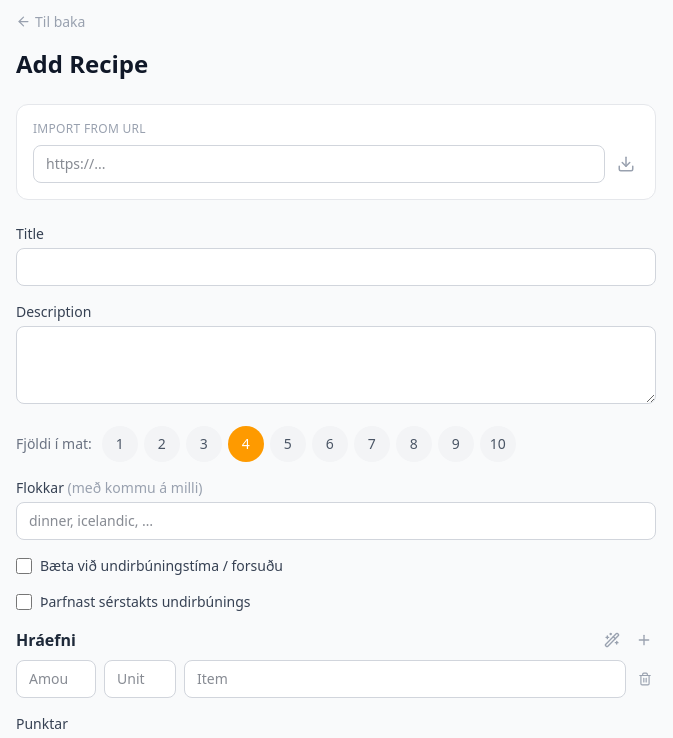
AddRecipeForm › imports from URL and pre-fills title
The image size is (673, 738).
Type "https://example.com/recipe" into the field with placeholder "https://..." at {"x": 319, "y": 164}, box [33,144,605,182]
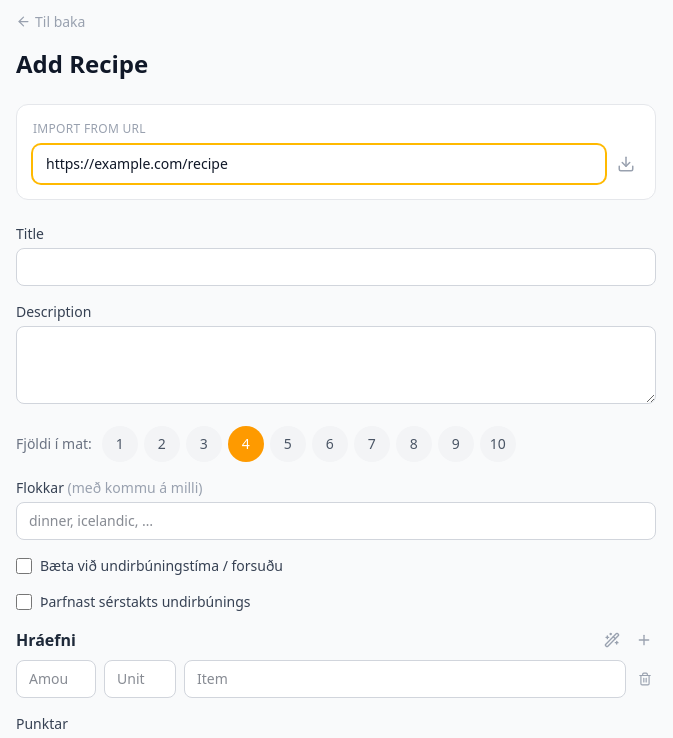
Click the button named "import recipe" at {"x": 626, "y": 164}, box [613,150,639,176]
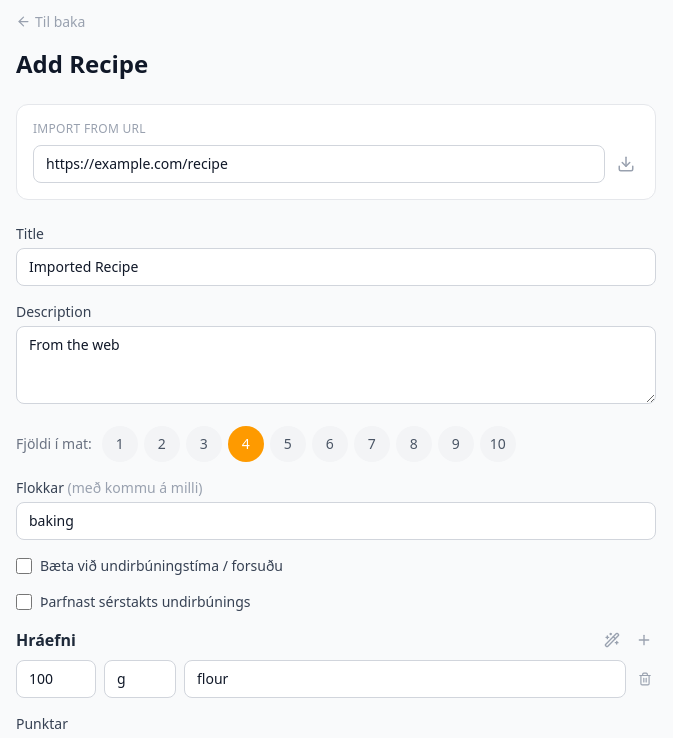
Expected: the field showing "Imported Recipe" is shown, [16,248,656,286]
